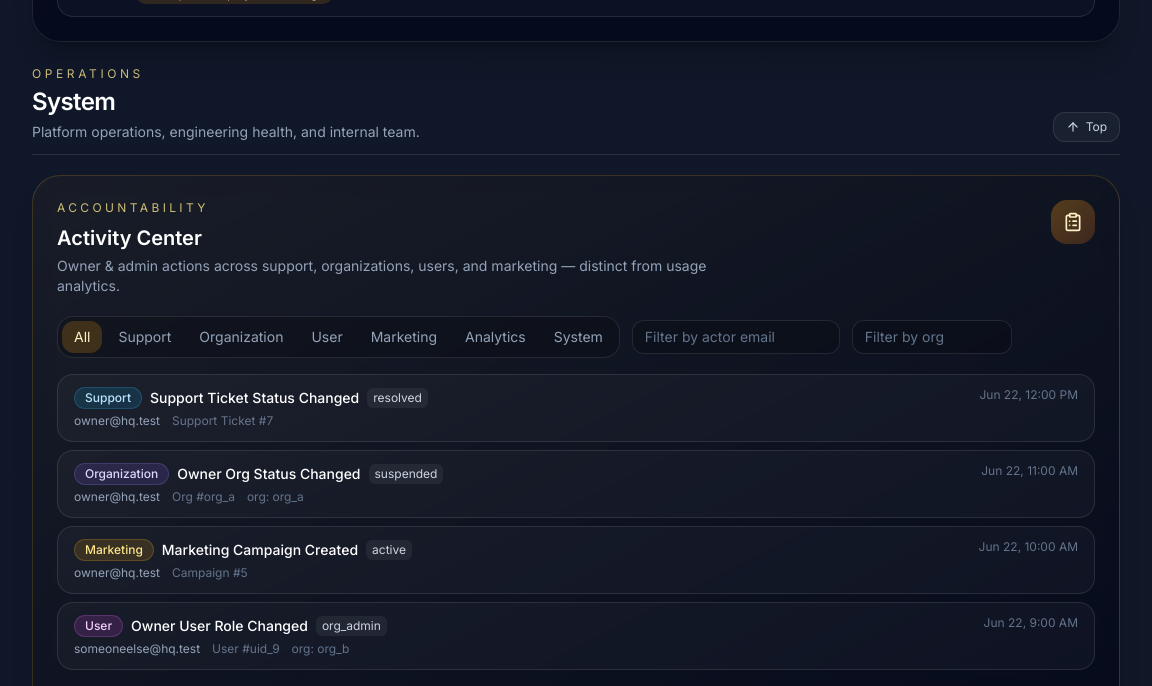
Test: Owner Cockpit Activity Center › filters by actor email client-side
(page scrolled)
Expected: the text "Owner User Role Changed" is shown, [131,616,308,636]
Step 1. Type "someoneelse" into the field with placeholder "Filter by actor email" → (736, 337), box [632,320,840,354]
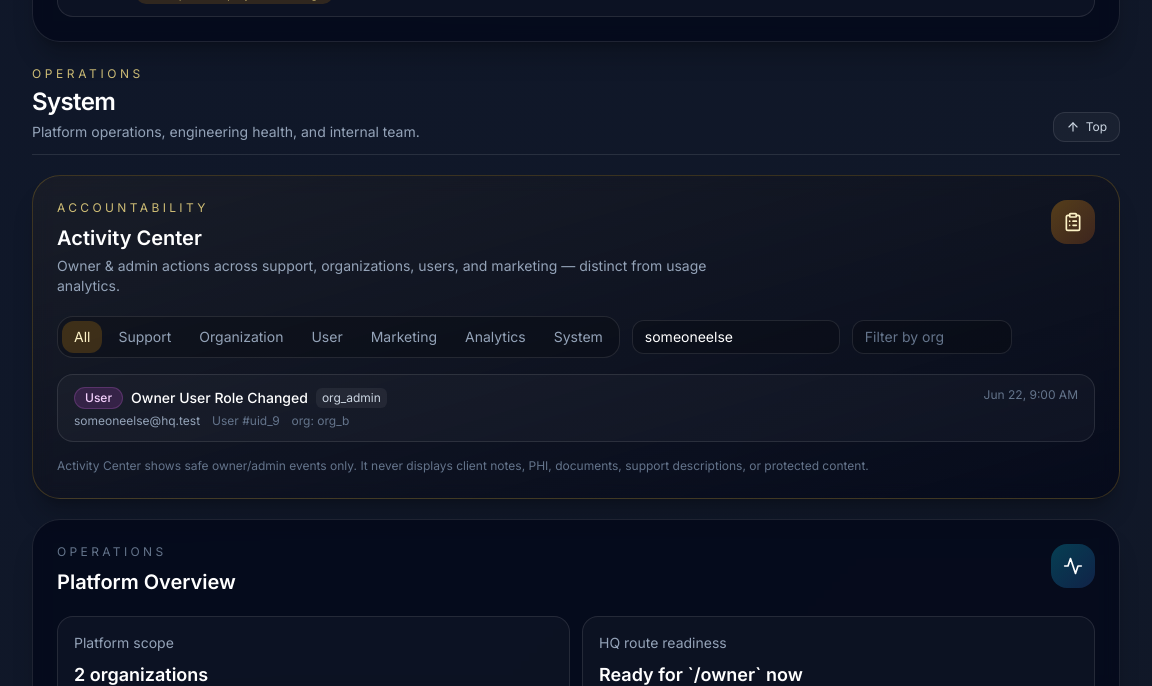
Expected: the text "Owner User Role Changed" is shown, [131,388,308,408]
Result: the text "Marketing Campaign Created" is gone
